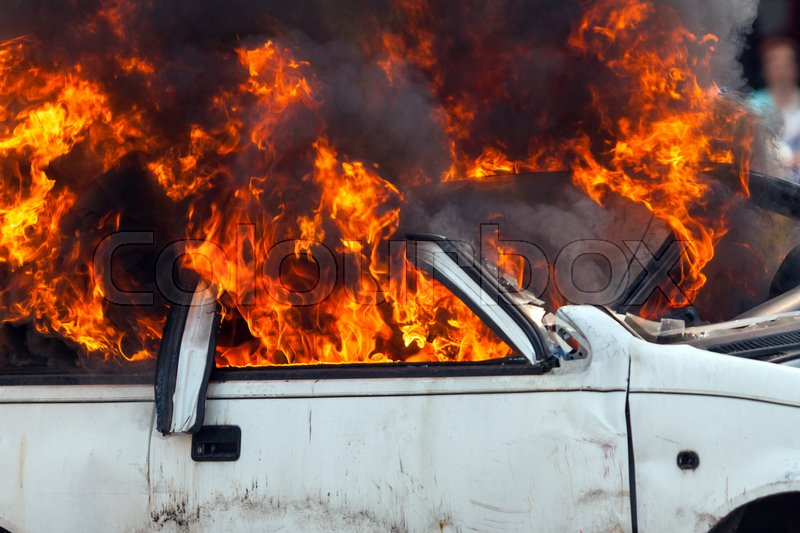fire: (2, 9, 731, 388)
